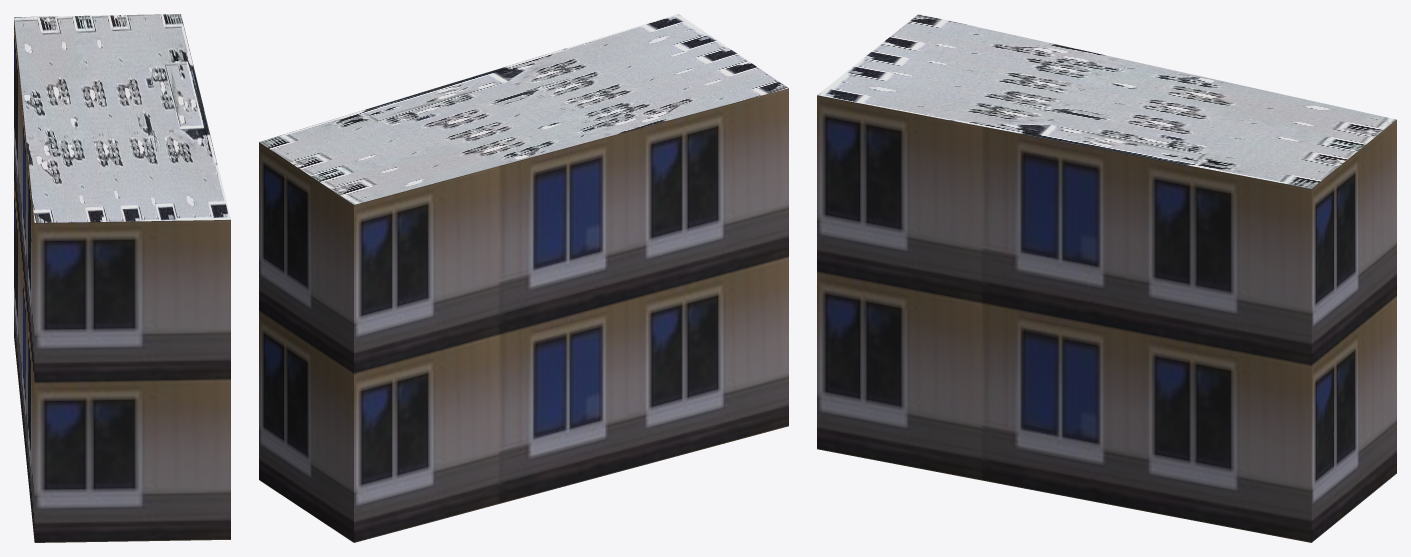
Rendered from ResTex__815.fbx.
The picture shows the model from 3 angles, left to right: view 1: azimuth 30°, elevation 25°; view 2: azimuth 150°, elevation 25°; view 3: azimuth 270°, elevation 25°; orthographic projection. The views are drawn at different scales.
Parts seen in each view (by area): view 1: CityEngineMaterial_5_m, CityEngineMaterial_8_m; view 2: CityEngineMaterial_5_m, CityEngineMaterial_8_m; view 3: CityEngineMaterial_5_m, CityEngineMaterial_8_m.
Boxes of the visible parts, <box> form: CityEngineMaterial_5_m: <box>14,18,230,542</box>; CityEngineMaterial_8_m: <box>14,14,230,222</box>; CityEngineMaterial_5_m: <box>259,88,788,542</box>; CityEngineMaterial_8_m: <box>259,14,788,204</box>; CityEngineMaterial_5_m: <box>817,95,1396,542</box>; CityEngineMaterial_8_m: <box>817,14,1396,188</box>.
Size of the model in its own units: 6.36 by 6 by 8.9.
Materials: 2 (2 with a texture image).
